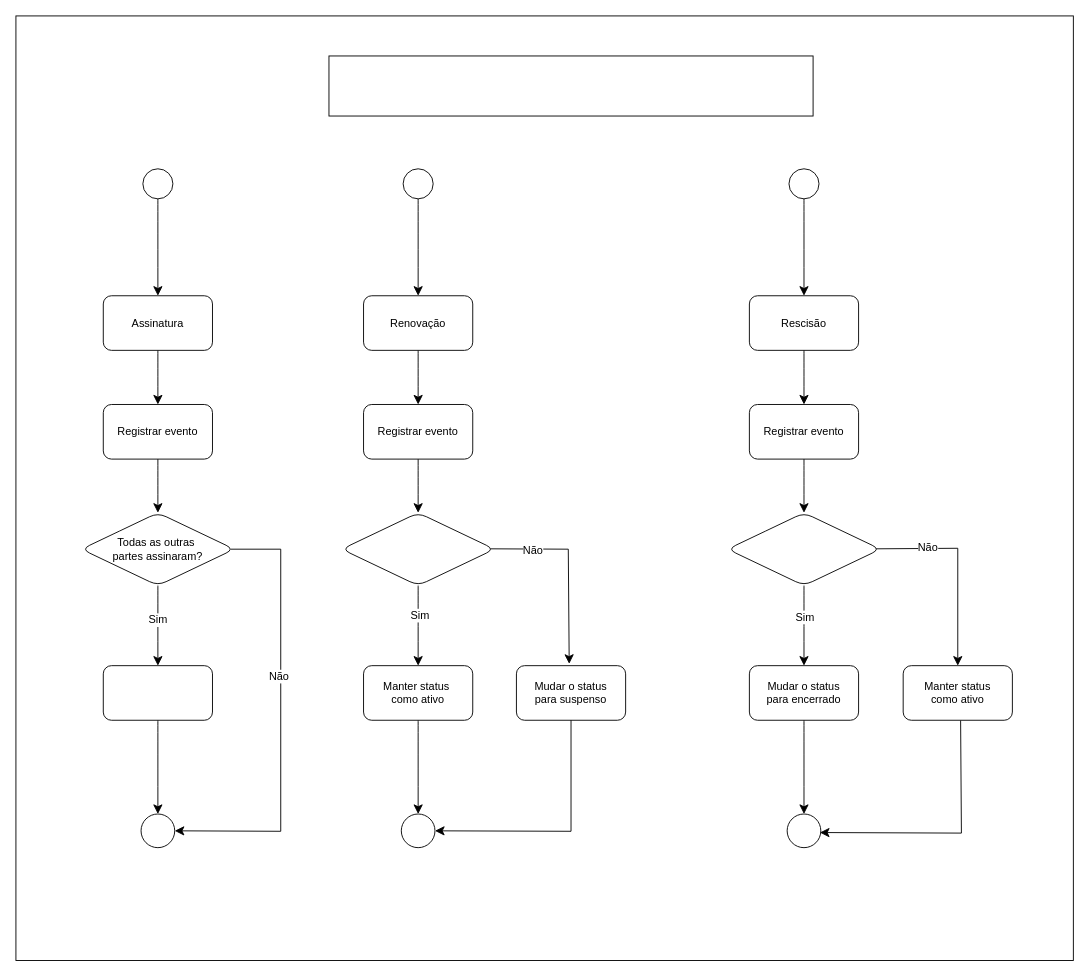
This 1089x976 diagram has some shape labels left out. The centre of each missing label's shape, as x and y in pixels:
"Diagrama de estados dos eventos" belongs at pixel 570 85.
"Mudar status do contrato para ativo" belongs at pixel 157 692.
"Todas as outras partes renovaram ?" belongs at pixel 418 549.
"Todas as outras partes rescindiram ?" belongs at pixel 803 549.
